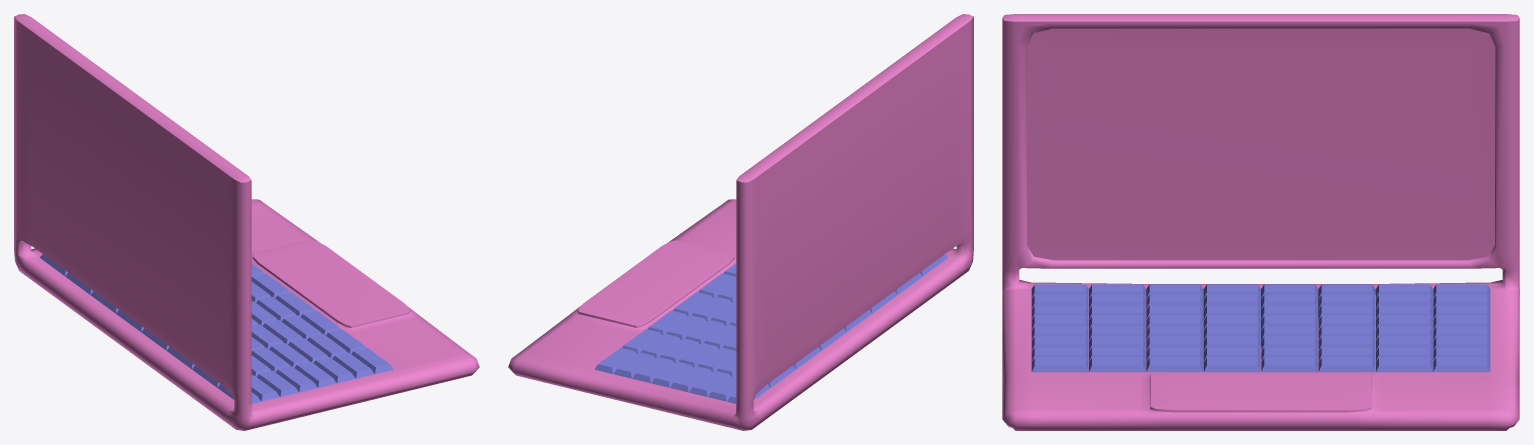
Rendered from Laptop.FBX.
The picture shows the model from 3 angles, left to right: view 1: azimuth 30°, elevation 25°; view 2: azimuth 150°, elevation 25°; view 3: azimuth 270°, elevation 25°; orthographic projection. The views are drawn at different scales.
Visible parts, largest first — view 1: Object001; view 2: Object001; view 3: Object001.
Part boxes in pixels (x1,y1,x2,y2): Object001: [14, 14, 479, 430]; Object001: [508, 14, 973, 430]; Object001: [1002, 14, 1519, 430].
Size of the model in its own units: 16.99 by 16.88 by 27.56.
